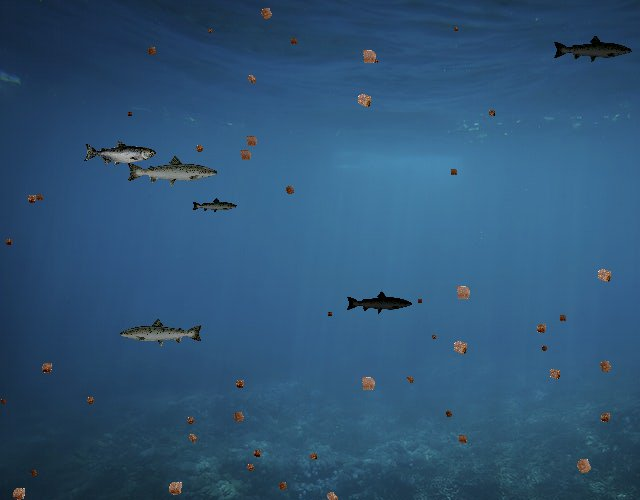Fish: (125, 154, 219, 188), (118, 317, 204, 348), (553, 34, 634, 64), (83, 140, 156, 167), (346, 290, 414, 314), (191, 197, 238, 214)
Pellet: (161, 475, 189, 500), (320, 486, 344, 500), (82, 393, 98, 409), (484, 106, 498, 120), (538, 343, 551, 356), (204, 26, 214, 36)
